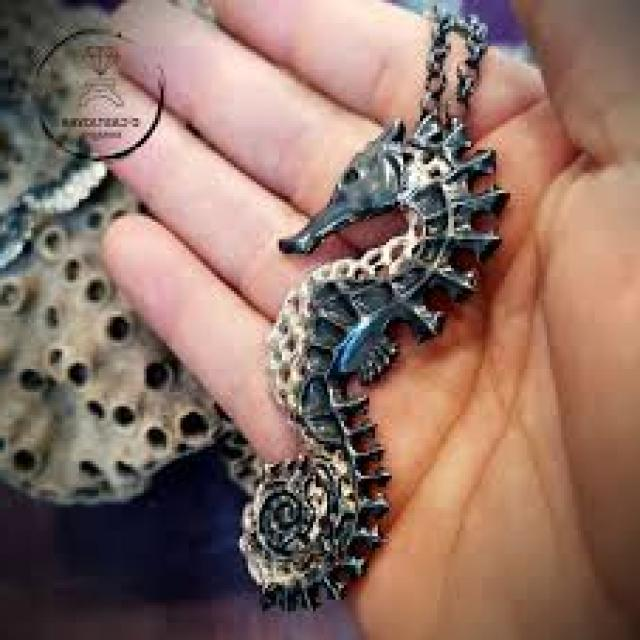seahorse: (242, 115, 505, 600)
